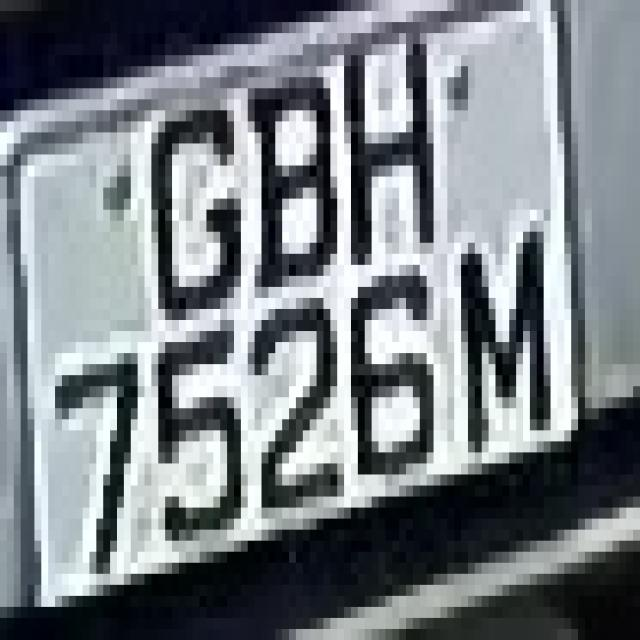2: (220, 265, 351, 552)
5: (138, 309, 248, 563)
6: (324, 254, 461, 496)
7: (34, 320, 131, 585)
B: (227, 44, 351, 309)
G: (124, 77, 248, 353)
H: (330, 22, 440, 276)
M: (440, 220, 564, 508)
